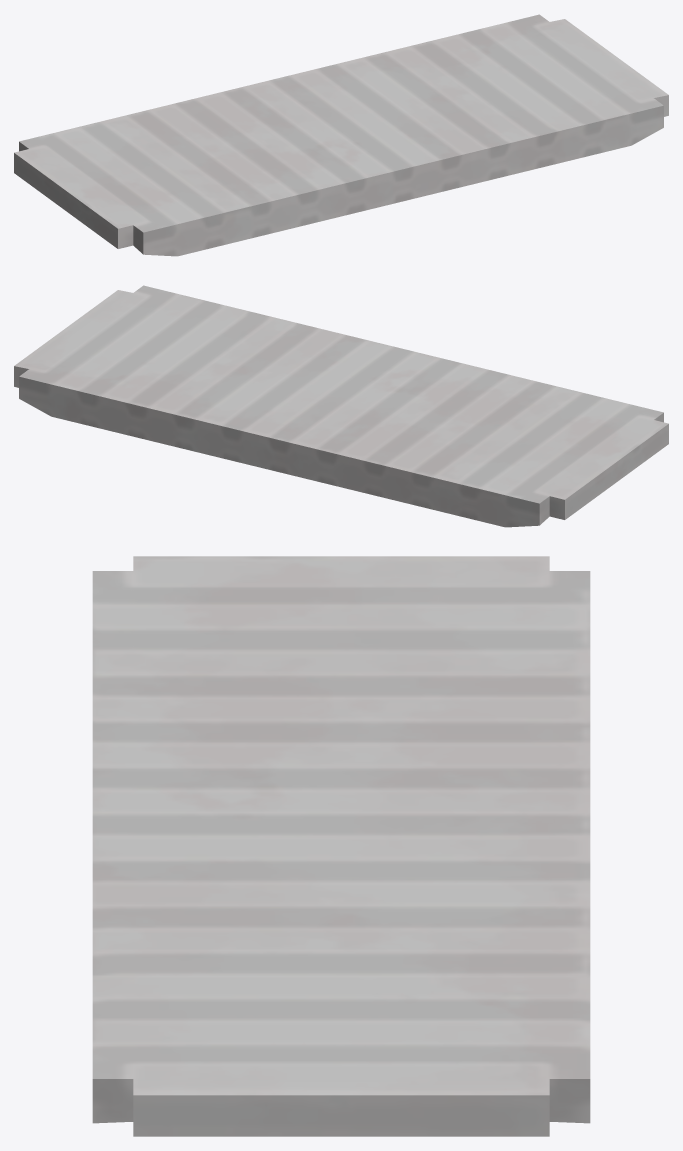
File: SM_Container_Ceiling.fbx
3 views of the same model, one above another, from view 1: azimuth 30°, elevation 25°; view 2: azimuth 150°, elevation 25°; view 3: azimuth 270°, elevation 25° (orthographic). The views are drawn at different scales.
Parts seen in each view (by area): view 1: SM_Container_Ceiling; view 2: SM_Container_Ceiling; view 3: SM_Container_Ceiling.
Boxes of the visible parts, <box> form: SM_Container_Ceiling: <box>14,14,668,256</box>; SM_Container_Ceiling: <box>14,285,668,527</box>; SM_Container_Ceiling: <box>92,556,590,1136</box>.
Size of the model in its own units: 6.31 by 0.3523 by 2.47.
